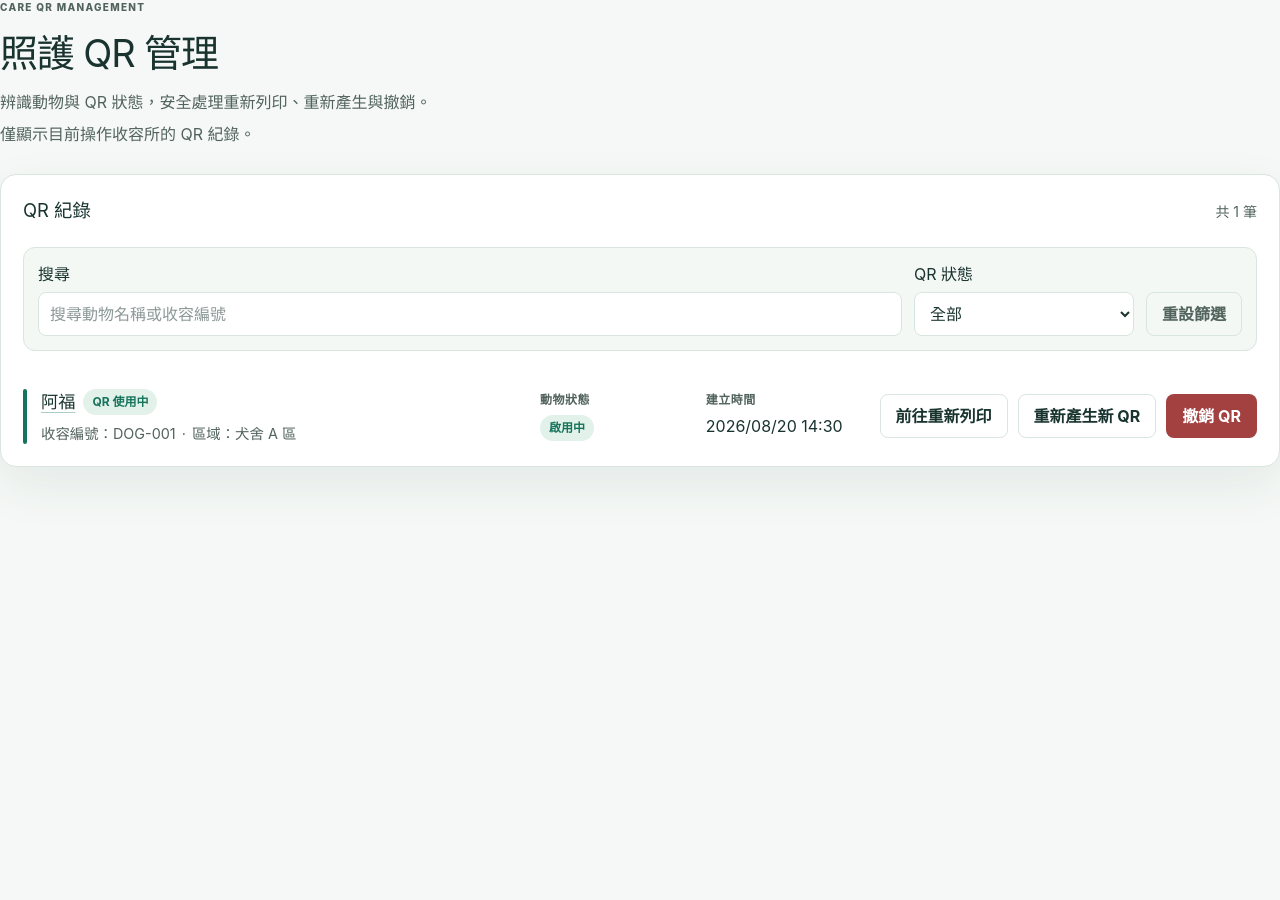
it: animal-aware care QR management list › keeps the list visible when a confirmed mutation fails
The width and height of the screenshot is (1280, 900).
Click the button "撤銷 QR" at x=1212, y=416, box [1166, 394, 1257, 438]
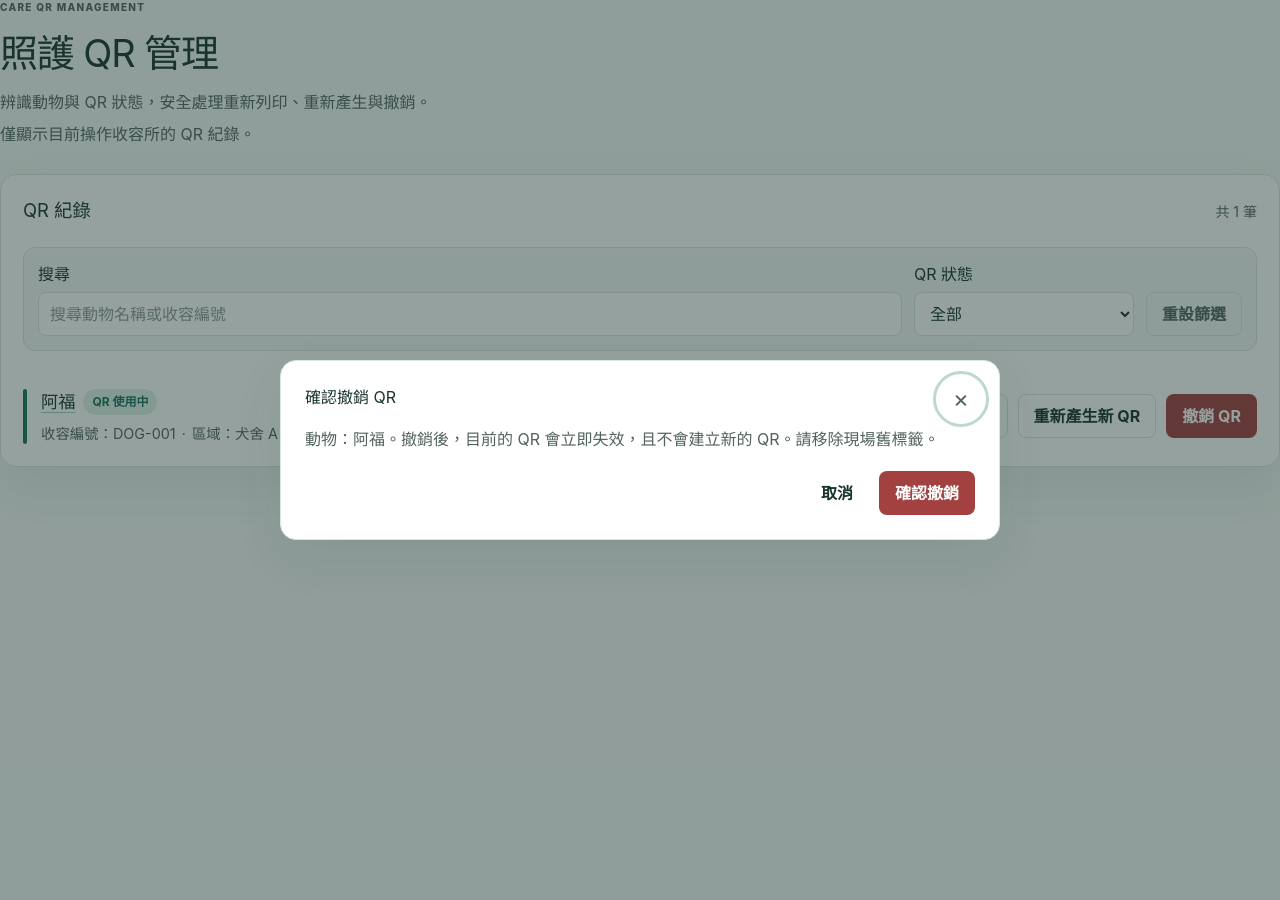
Click the button "確認撤銷" at x=927, y=493, box [879, 471, 975, 515]
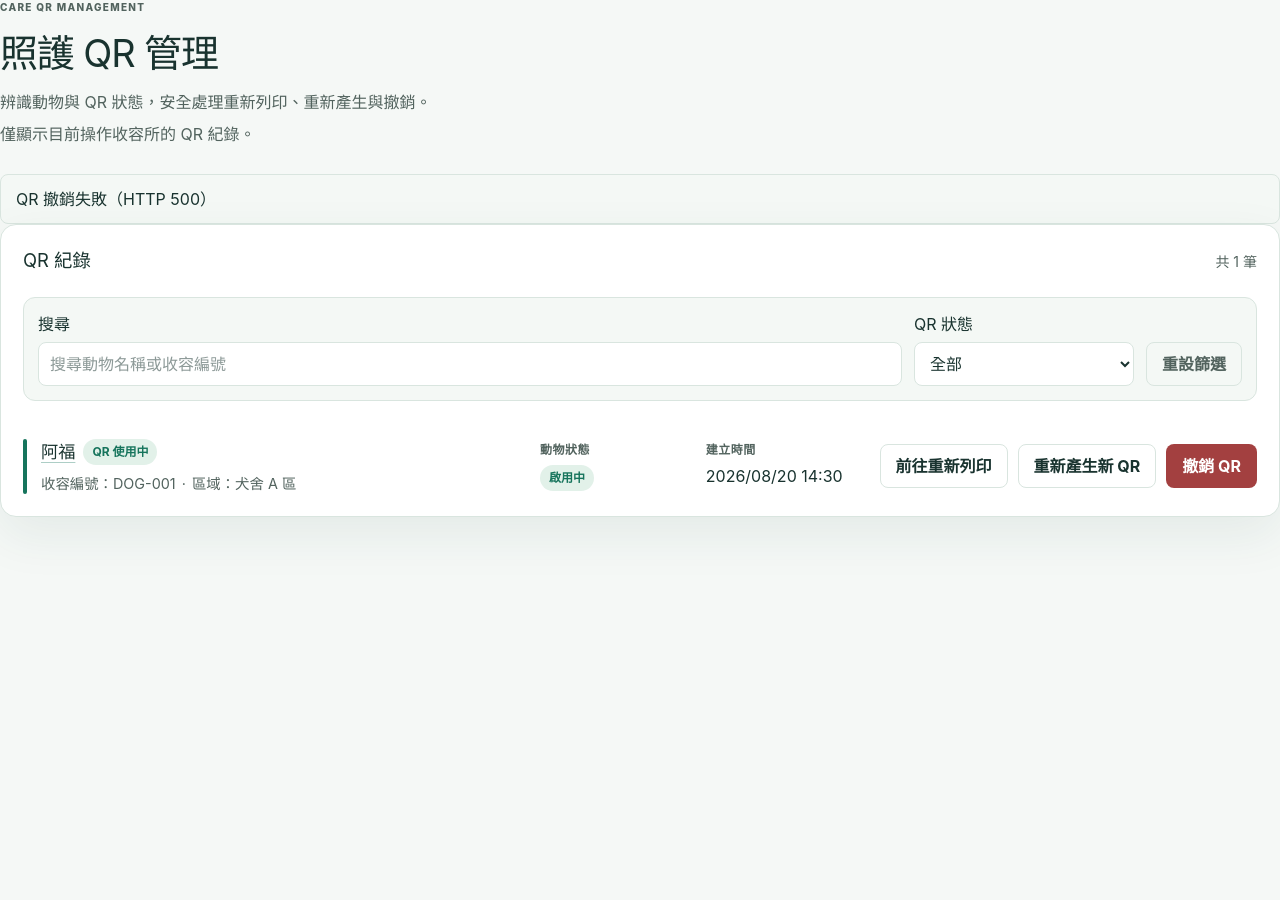
Expected: the list item shows "前往重新列印", [880, 444, 1008, 488]
Expected: the text "QR 撤銷失敗（HTTP 500）" is shown, [0, 174, 1279, 224]
